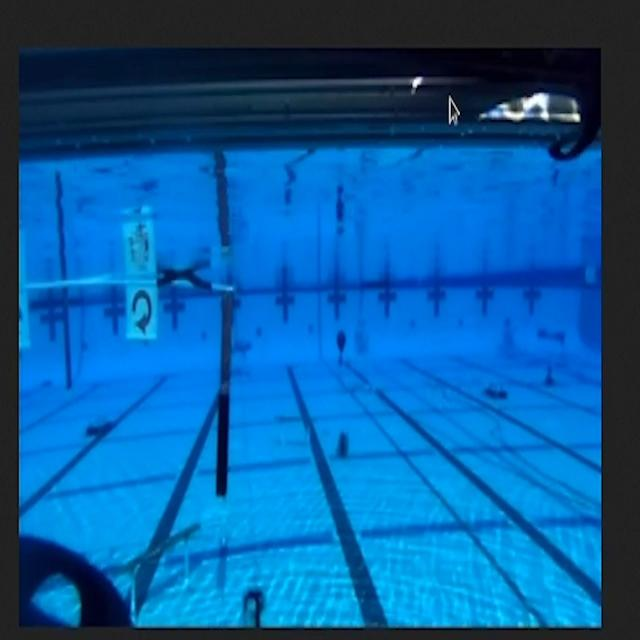Gate: (32, 274, 245, 515)
